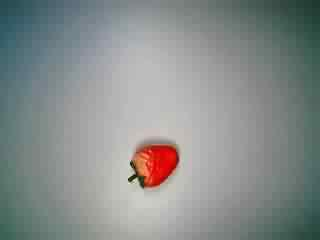strawberry: (119, 138, 181, 195)
